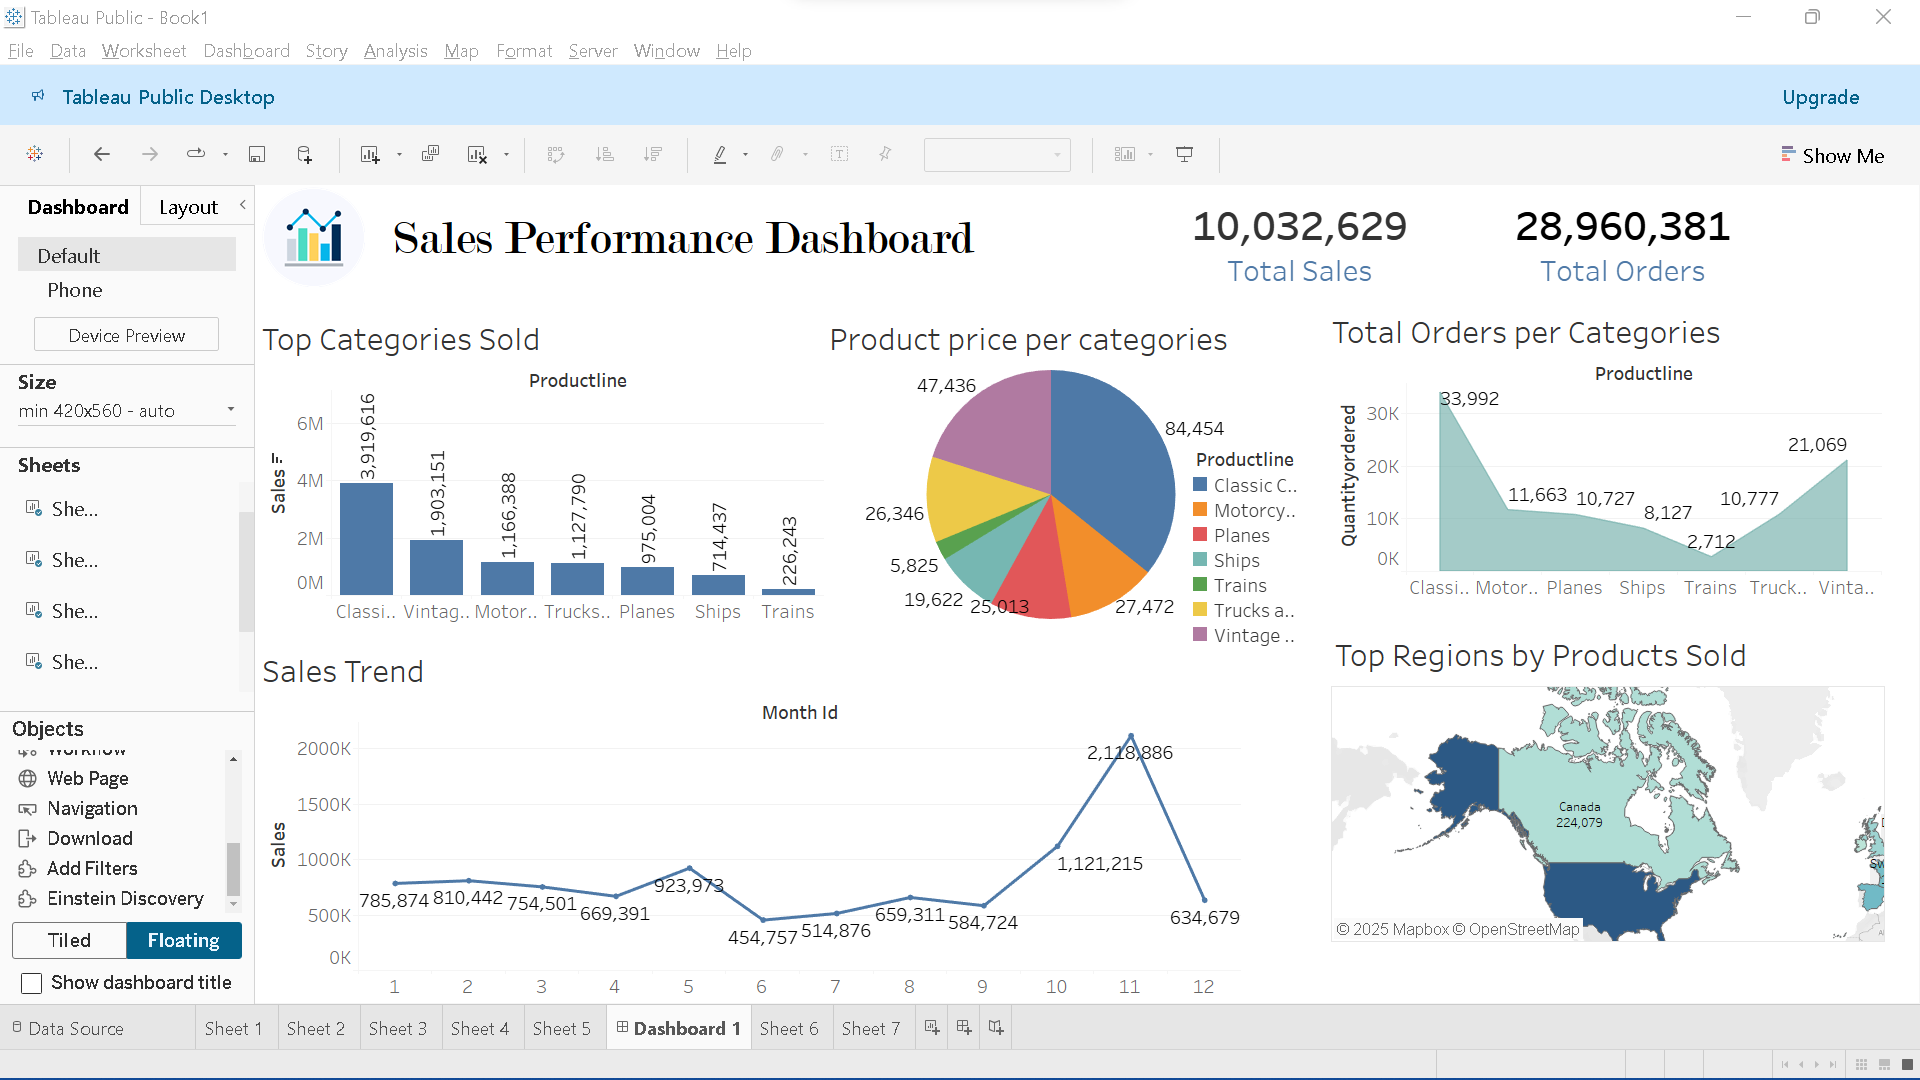

The page's visual inventory and layout, read from the dashboard file:
{"tool":"tableau","page":{"name":"Dashboard 1","canvas":[1000,1000],"units":"permille","ordinal":0},"visuals":[{"type":"image","param":"C:/Users/user/Downloads/img2.png","box":[4.4,2.4,69,122.2]},{"type":"text","box":[81,29.3,388,72.1]},{"type":"worksheet","title":"Sheet 3","mark":"Area","rows":["QUANTITYORDERED"],"cols":["PRODUCTLINE"],"box":[644.9,147.9,332.9,359.4]},{"type":"worksheet","title":"Sheet 2","mark":"Bar","rows":["SALES"],"cols":["PRODUCTLINE"],"box":[1.9,156.5,339.9,380.2]},{"type":"worksheet","title":"Sheet 5","mark":"Pie","box":[342.4,156.5,271.5,374.1]},{"type":"legend","title":"Sheet 5","param":"[federated.0mjarep09fe74p18wxs9s0g3njy8].[none:PRODUCTLINE:nk]","box":[560.8,319.1,68.4,266.5]},{"type":"worksheet","title":"Sheet 4","mark":"Multipolygon","box":[646.8,542.8,332.9,382.6]},{"type":"worksheet","title":"Sheet 1","mark":"Line","rows":["SALES"],"cols":["MONTH_ID"],"box":[1.9,562.4,590.5,432.8]}]}

Visuals, with their boxes on the dashboard's canvas, which has no fixed pixel size, in thousandths of its width and height (x1, y1, x2, y2). These are canvas units, not pixel positions in the 1920x1080 screenshot, which may show the page scaled, cropped or inside an application window:
image: bbox(4, 2, 73, 125)
text: bbox(81, 29, 469, 101)
"Sheet 3" worksheet (Area marks): bbox(645, 148, 978, 507)
"Sheet 2" worksheet (Bar marks): bbox(2, 156, 342, 537)
"Sheet 5" worksheet (Pie marks): bbox(342, 156, 614, 531)
"Sheet 5" legend: bbox(561, 319, 629, 586)
"Sheet 4" worksheet (Multipolygon marks): bbox(647, 543, 980, 925)
"Sheet 1" worksheet (Line marks): bbox(2, 562, 592, 995)
